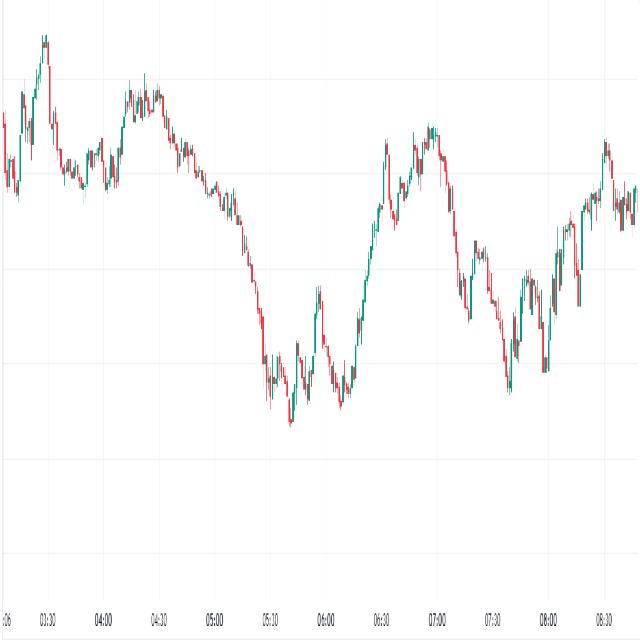Double-Bottom: (326, 344, 360, 418), (96, 129, 126, 203)
Head-Shoulders: (17, 20, 66, 201)
